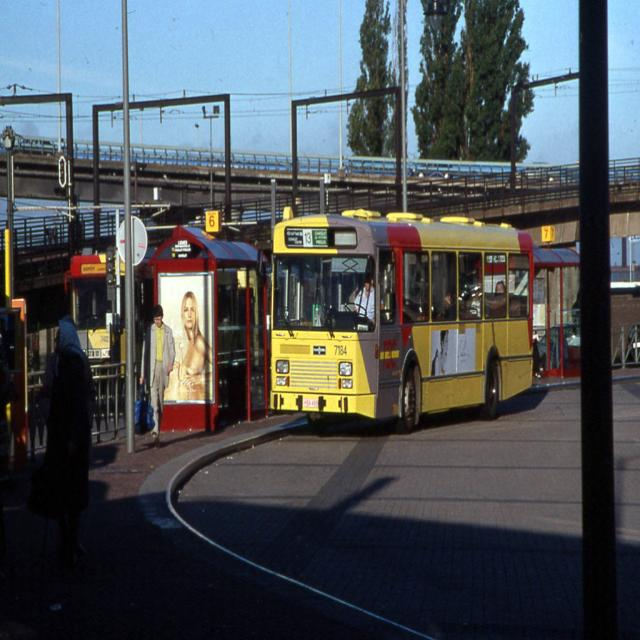Buses: (271, 210, 537, 437)
Pedestrians: (41, 317, 93, 611), (139, 304, 175, 454)
